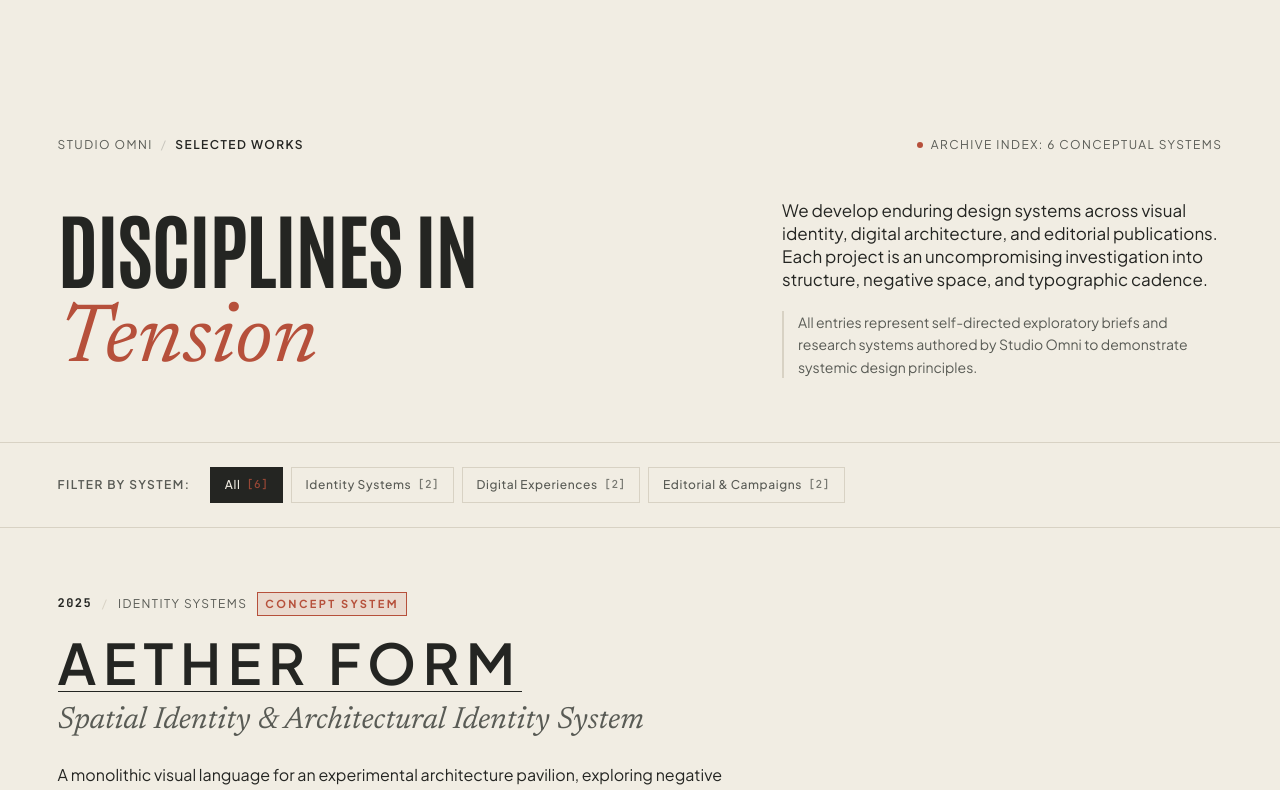
Test: Studio Omni Portfolio & Case Studies Architecture › Work Index Page (/work) › filters projects dynamically when category buttons are clicked
Check: the link "Aether Form" is shown, box [58, 638, 522, 692]
Click "Identity Systems" filter
Click the button with aria-label "filter by identity systems" at (372, 485), box [291, 467, 454, 503]
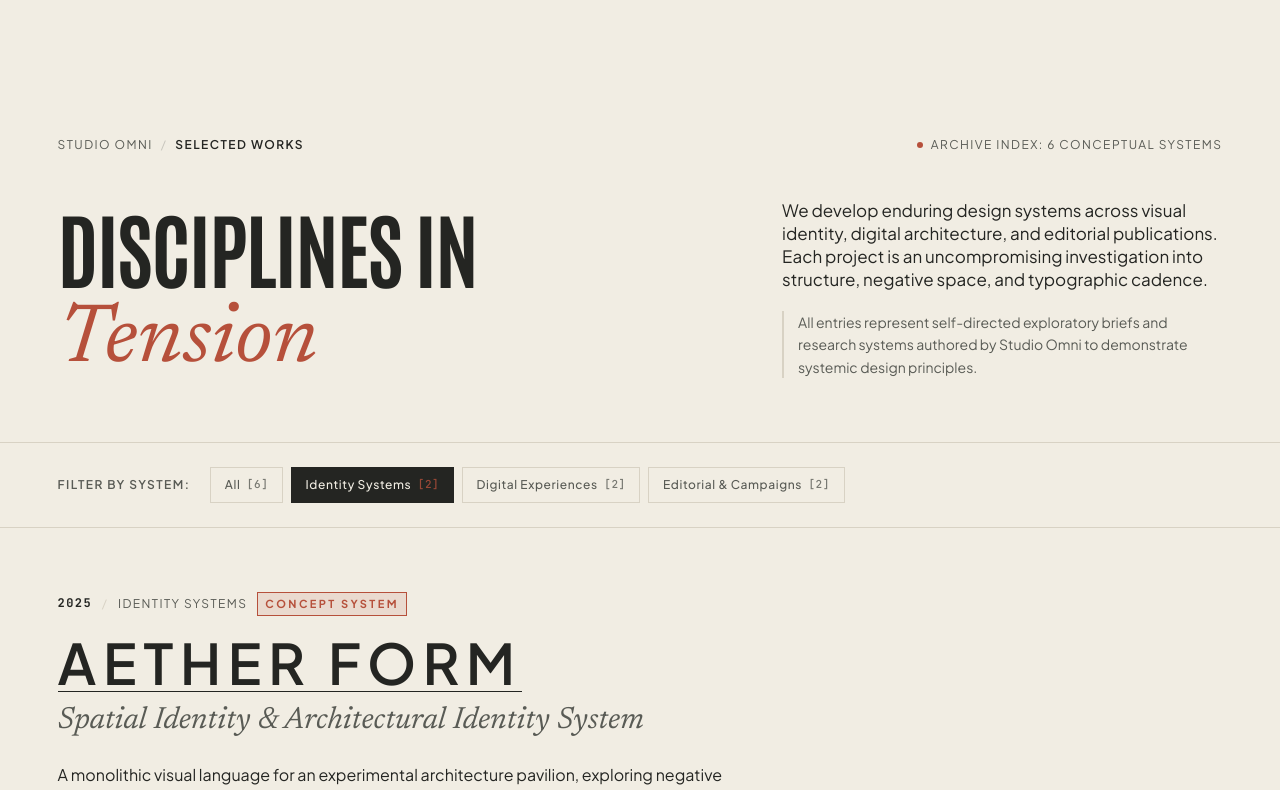
Check: the link "Aether Form" is shown, box [58, 638, 522, 692]
Check: the button with aria-label "filter by identity systems" is pressed, box [291, 467, 454, 503]
Return to All
Click the button with aria-label "filter by all" at (247, 485), box [210, 467, 283, 503]
(page scrolled)
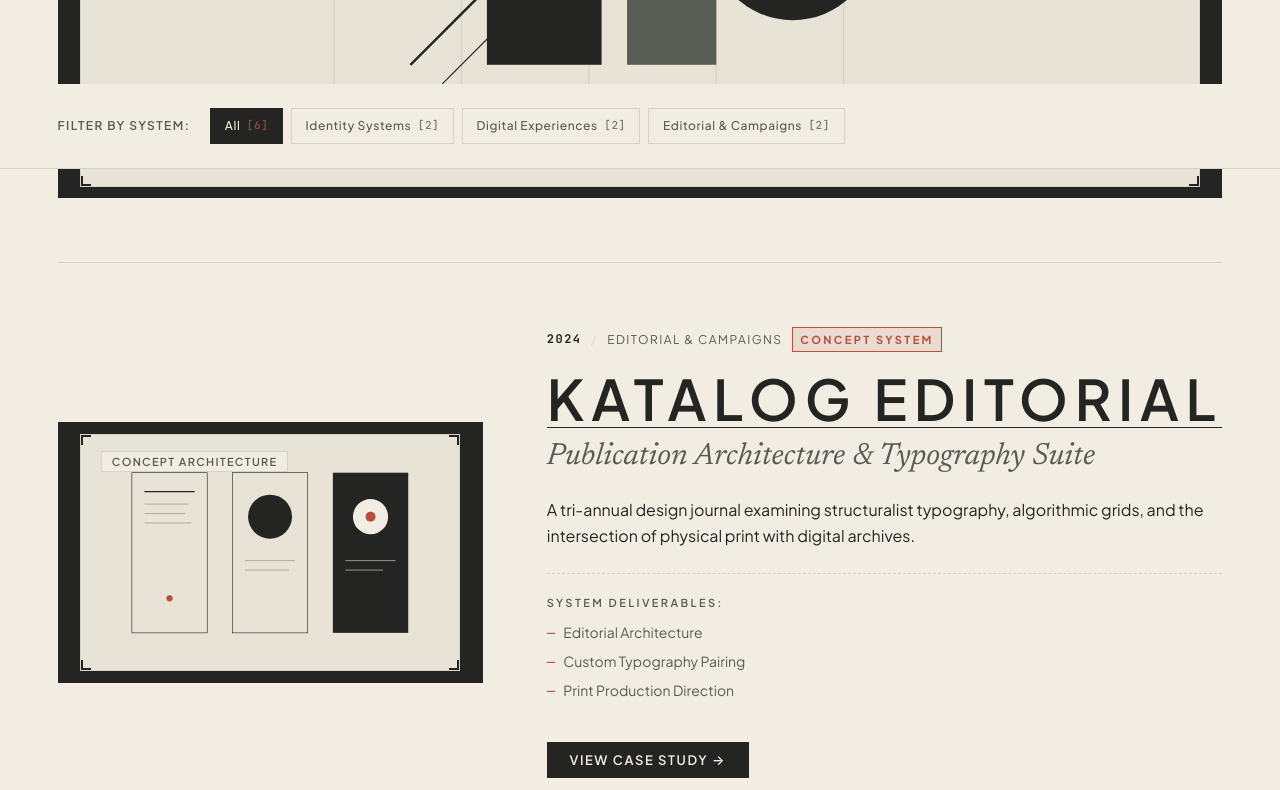
Check: the link "Katalog Editorial" is shown, box [547, 374, 1222, 428]
